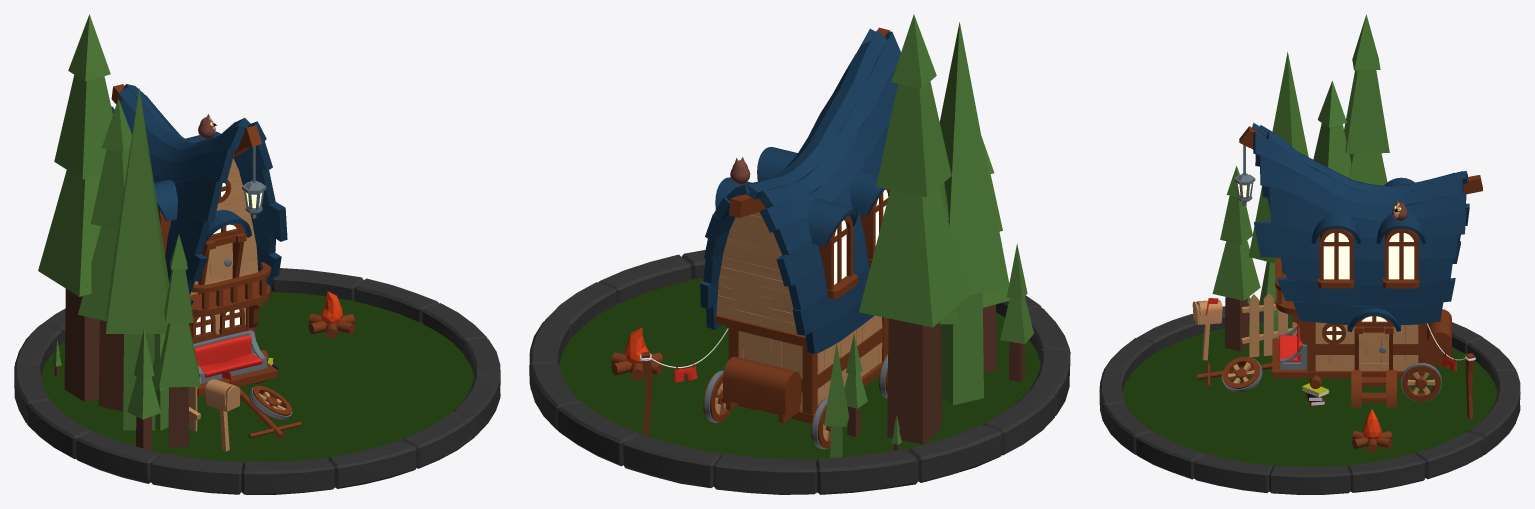
The model's file is kaino.glb.
3 renders of one model, left to right at view 1: azimuth 30°, elevation 25°; view 2: azimuth 150°, elevation 25°; view 3: azimuth 270°, elevation 25°, orthographic. The views are drawn at different scales.
Parts seen in each view (by area): view 1: Circle.001, Cube.068, Cube.094, Cylinder.002, Cube.092, Cube.091, Cube.088, Cube.093, Cube.026, Cube.042, Cube.028, Cube.086 (+12 smaller); view 2: Cube.068, Circle.001, Cube.094, Cylinder.002, Cube.092, Cube.043, Cube.010, Cube.093, Cylinder.003, Cylinder.004, Cube.011, Cube.013 (+12 smaller); view 3: Circle.001, Cylinder.002, Cube.068, Cube.094, Cube.088, Cube.092, Cube.091, Cube.011, Plane.007, Cube, Cube.010, Cube.022 (+17 smaller).
Boxes of the visible parts, box(x1,y1,x2,y2) form: Circle.001: box(40, 291, 474, 464); Cube.068: box(14, 268, 500, 494); Cube.094: box(38, 14, 112, 401); Cylinder.002: box(111, 84, 287, 304); Cube.092: box(106, 88, 169, 430); Cube.091: box(78, 98, 132, 411); Cube.088: box(157, 234, 200, 447); Cube.093: box(127, 328, 160, 450); Cube.026: box(194, 335, 262, 377); Cube.042: box(190, 158, 258, 295); Cube.028: box(190, 281, 270, 316); Cube.086: box(205, 379, 240, 411); Cube.068: box(529, 250, 1070, 494); Circle.001: box(559, 278, 1040, 461); Cube.094: box(859, 14, 968, 444); Cylinder.002: box(700, 28, 900, 353); Cube.092: box(939, 22, 1009, 405); Cube.043: box(716, 212, 804, 336); Cube.010: box(723, 356, 801, 414); Cube.093: box(1000, 243, 1033, 381); Cylinder.003: box(757, 147, 885, 215); Cylinder.004: box(715, 177, 858, 246); Cube.011: box(817, 315, 882, 405); Cube.013: box(739, 331, 802, 411); Circle.001: box(1122, 322, 1497, 466); Cylinder.002: box(1252, 122, 1469, 325); Cube.068: box(1099, 303, 1520, 494); Cube.094: box(1344, 14, 1389, 185); Cube.088: box(1212, 166, 1260, 351); Cube.092: box(1248, 52, 1308, 335); Cube.091: box(1313, 81, 1351, 177); Cube.011: box(1315, 322, 1418, 370); Plane.007: box(1249, 293, 1297, 357); Cube: box(1272, 339, 1427, 378); Cube.010: box(1427, 309, 1451, 360); Cube.022: box(1359, 327, 1388, 370).
Bounding box in the file's own units: 6.07 × 5.34 × 6.06.
